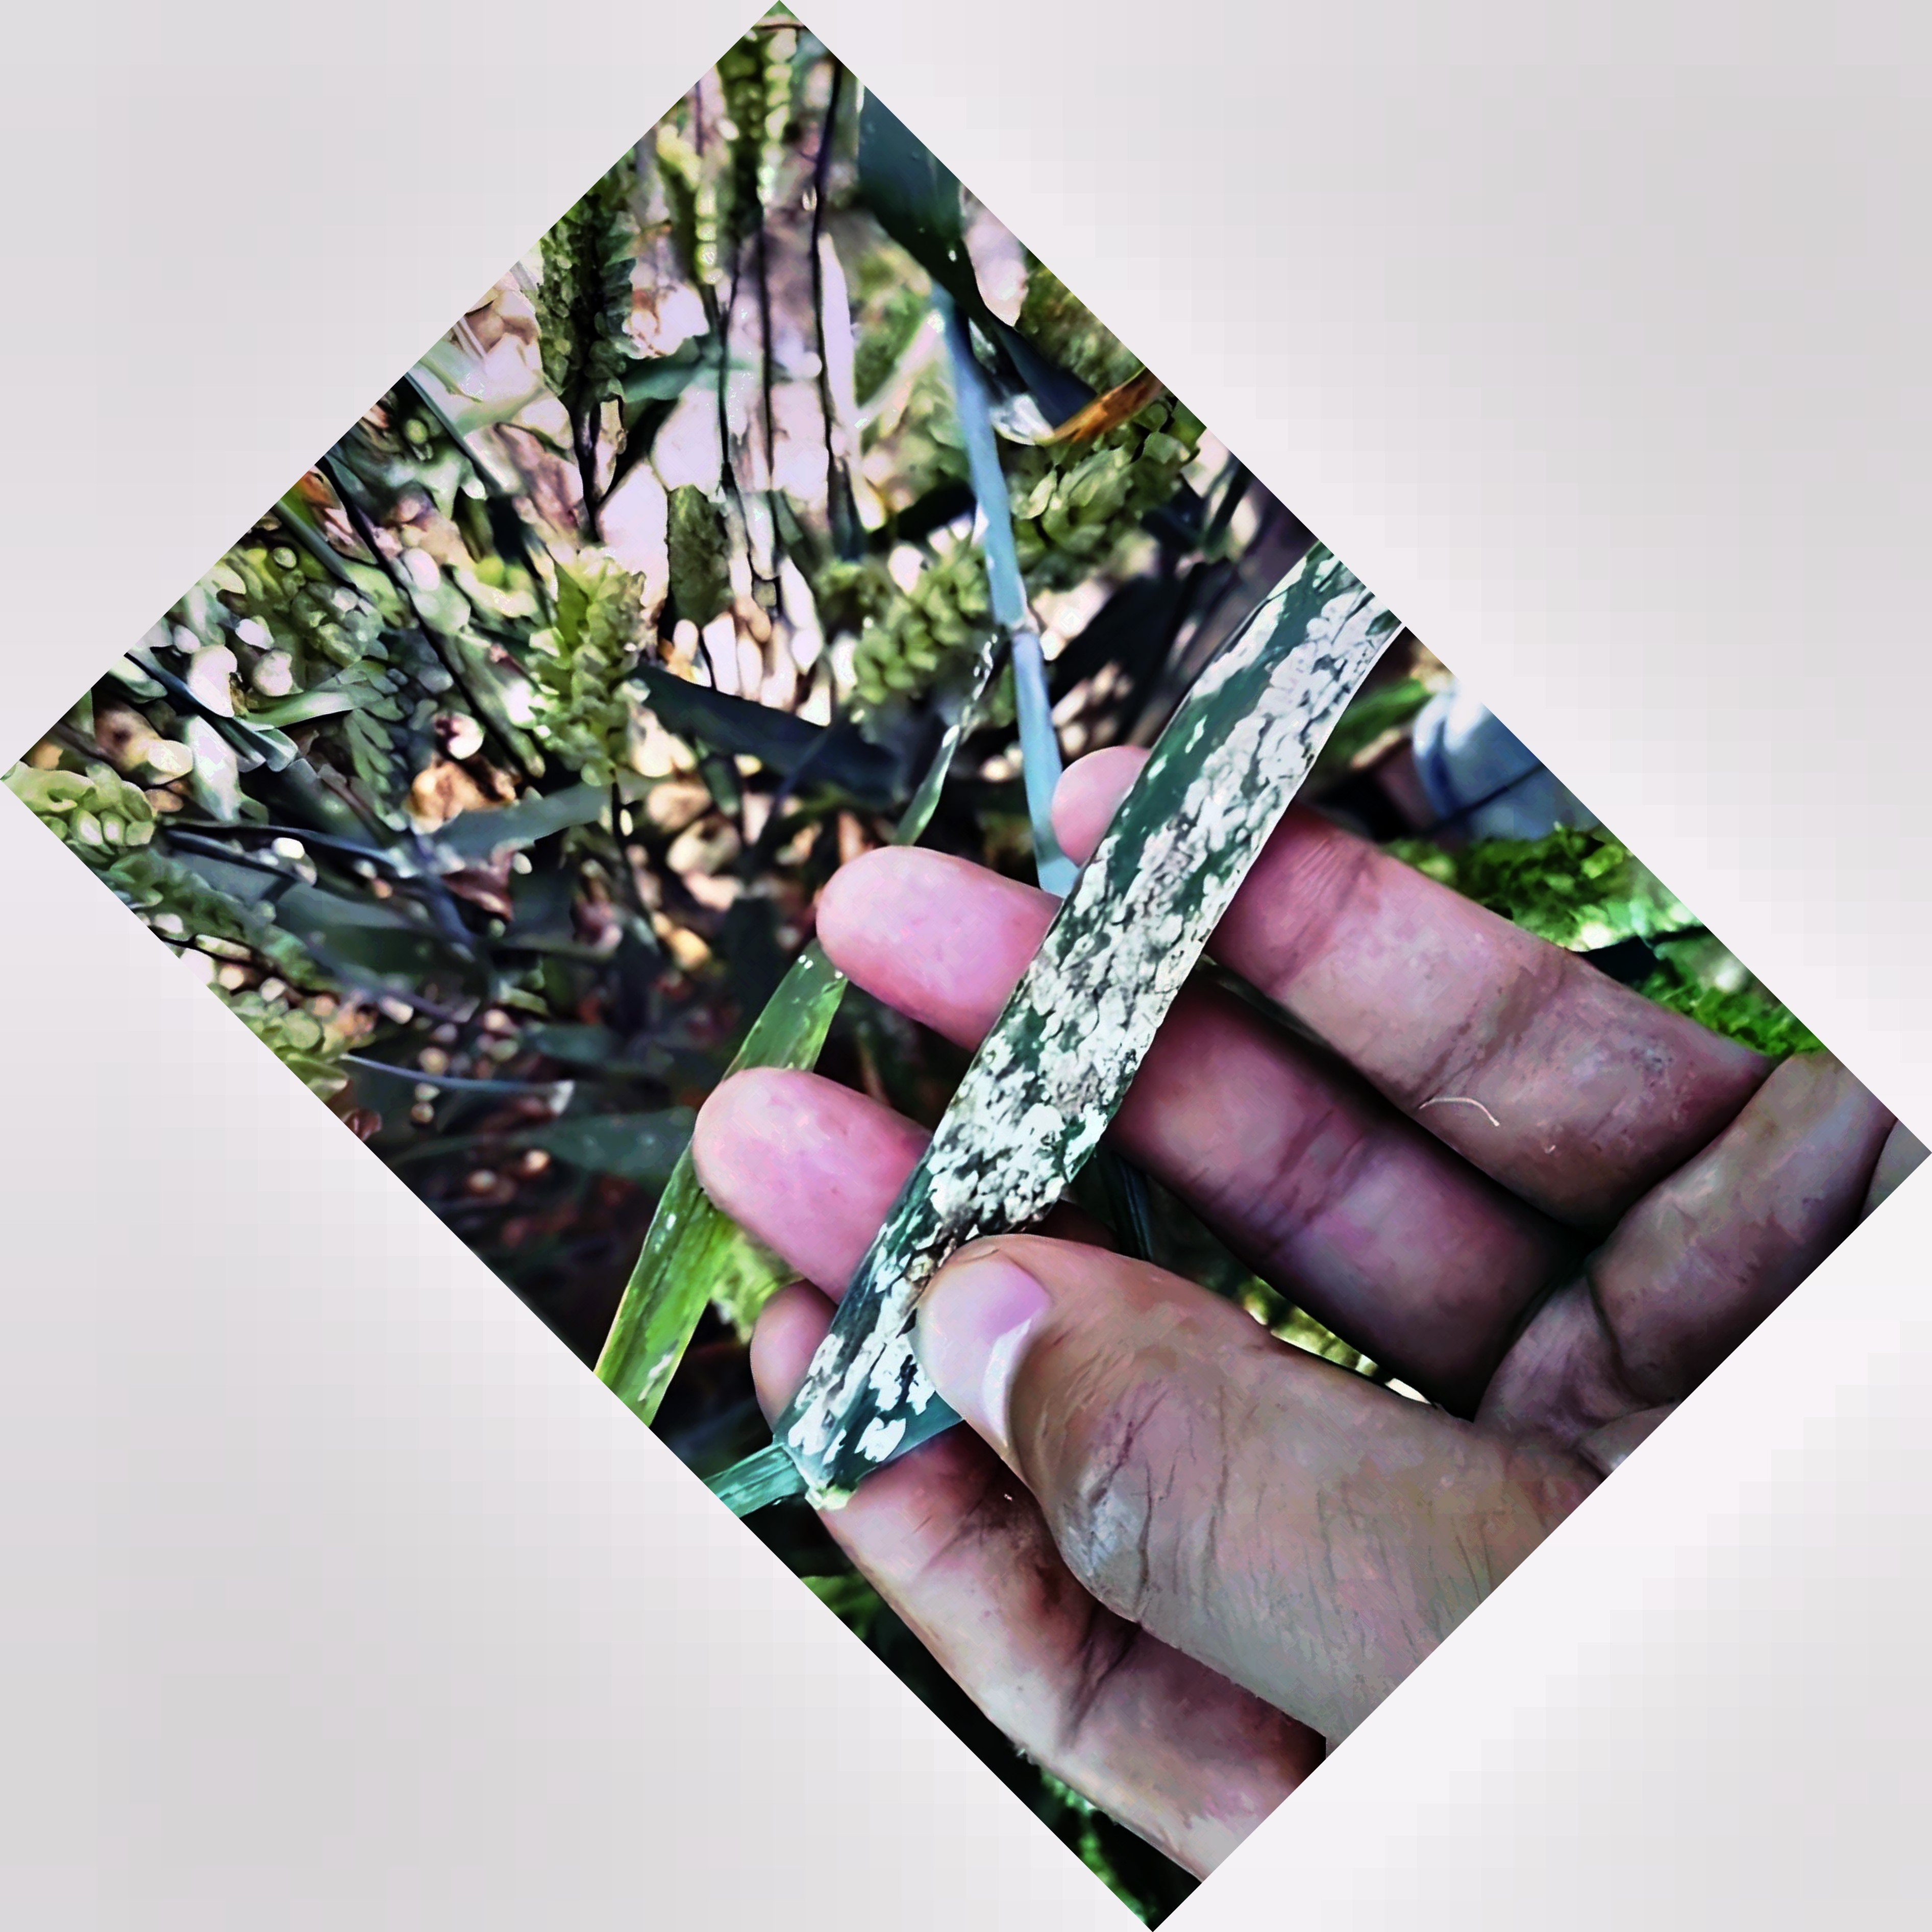Powdery Mildew: (791, 586, 1407, 1453)
